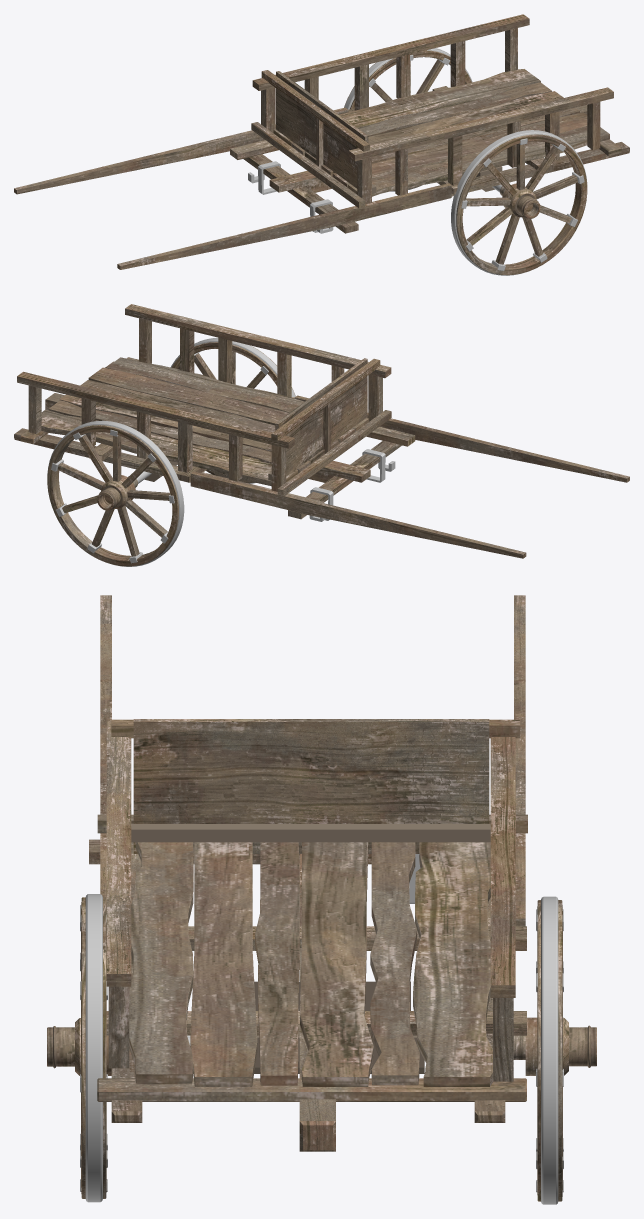
Rendered from SM_Cart_Small.fbx.
The picture shows the model from 3 angles, top to bottom: view 1: azimuth 30°, elevation 25°; view 2: azimuth 150°, elevation 25°; view 3: azimuth 270°, elevation 25°; orthographic projection. The views are drawn at different scales.
Parts seen in each view (by area): view 1: SM_Cart_Small_LOD0; view 2: SM_Cart_Small_LOD0; view 3: SM_Cart_Small_LOD0.
Part boxes in pixels (box(x1,y1,x2,y2)): SM_Cart_Small_LOD0: box(14, 14, 629, 275); SM_Cart_Small_LOD0: box(14, 304, 629, 566); SM_Cart_Small_LOD0: box(47, 595, 596, 1204).
Bounding box in the file's own units: 328 × 149 × 98.02.
